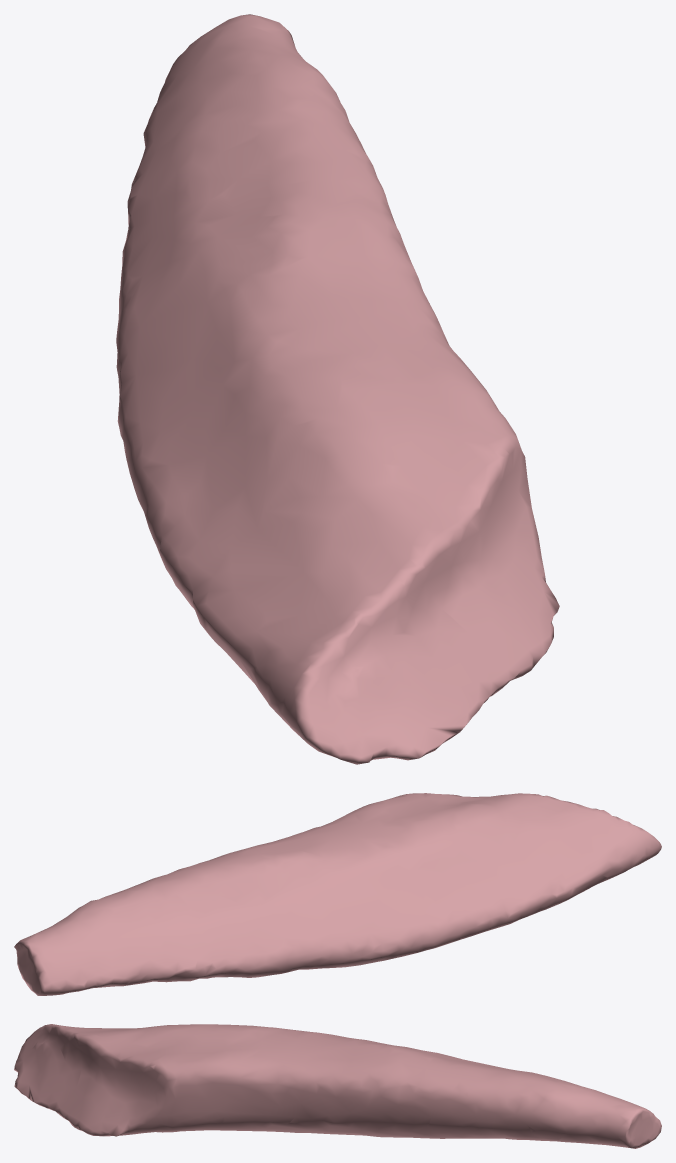
Rendered from fma320667_mm1131.glb.
The picture shows the model from 3 angles, top to bottom: view 1: azimuth 30°, elevation 25°; view 2: azimuth 150°, elevation 25°; view 3: azimuth 270°, elevation 25°; orthographic projection. The views are drawn at different scales.
Parts seen in each view (by area): view 1: FMA320667_MM1131; view 2: FMA320667_MM1131; view 3: FMA320667_MM1131.
Part boxes in pixels (x1,y1,x2,y2): FMA320667_MM1131: [116, 14, 559, 764]; FMA320667_MM1131: [14, 793, 661, 995]; FMA320667_MM1131: [14, 1024, 661, 1148].
Size of the model in its own units: 0.0159 by 0.00525 by 0.0301.
